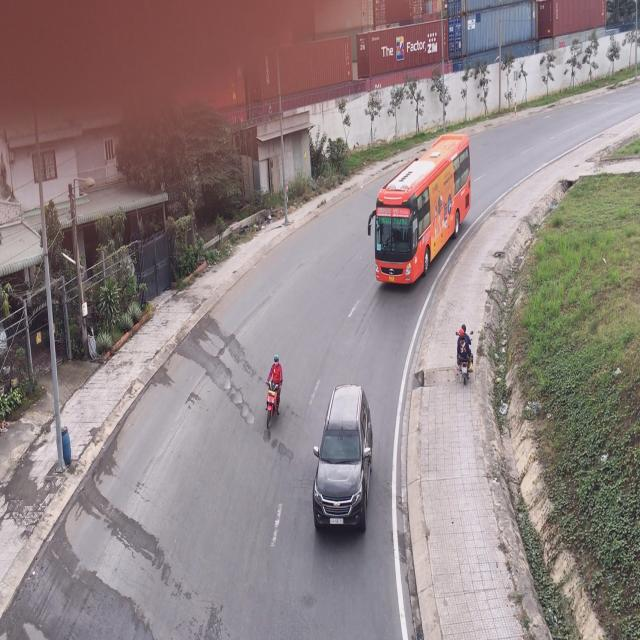bus: (373, 133, 473, 288)
car: (314, 387, 374, 537)
motorbike: (264, 354, 286, 432), (454, 322, 474, 388)
